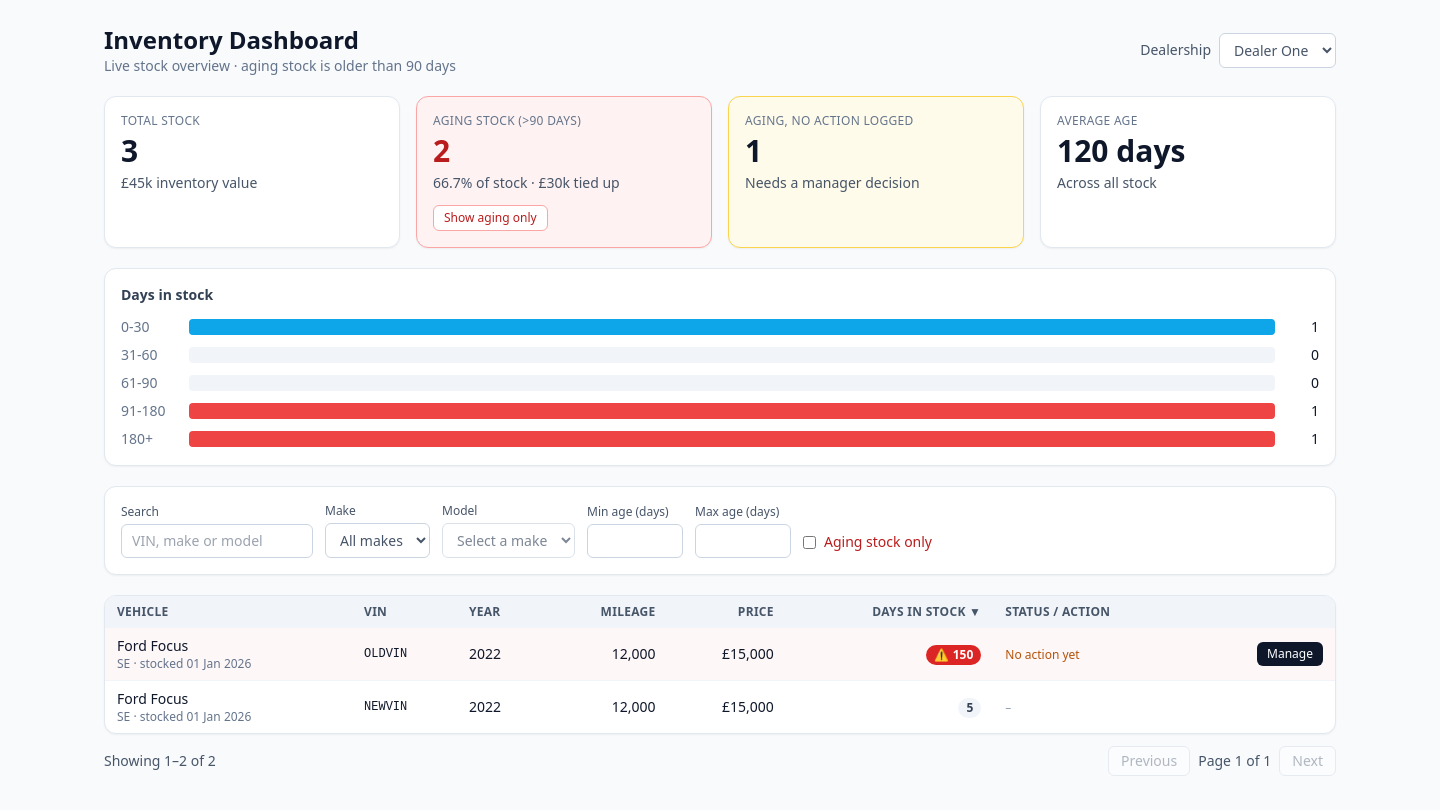
Test: App › re-queries with aging=true when "aging only" is ticked
The width and height of the screenshot is (1440, 810).
Expected: the text "NEWVIN" is shown, [352,680,457,733]
Click the checkbox labelled "Aging stock only". click: (810, 542)
box: [803,536,816,548]
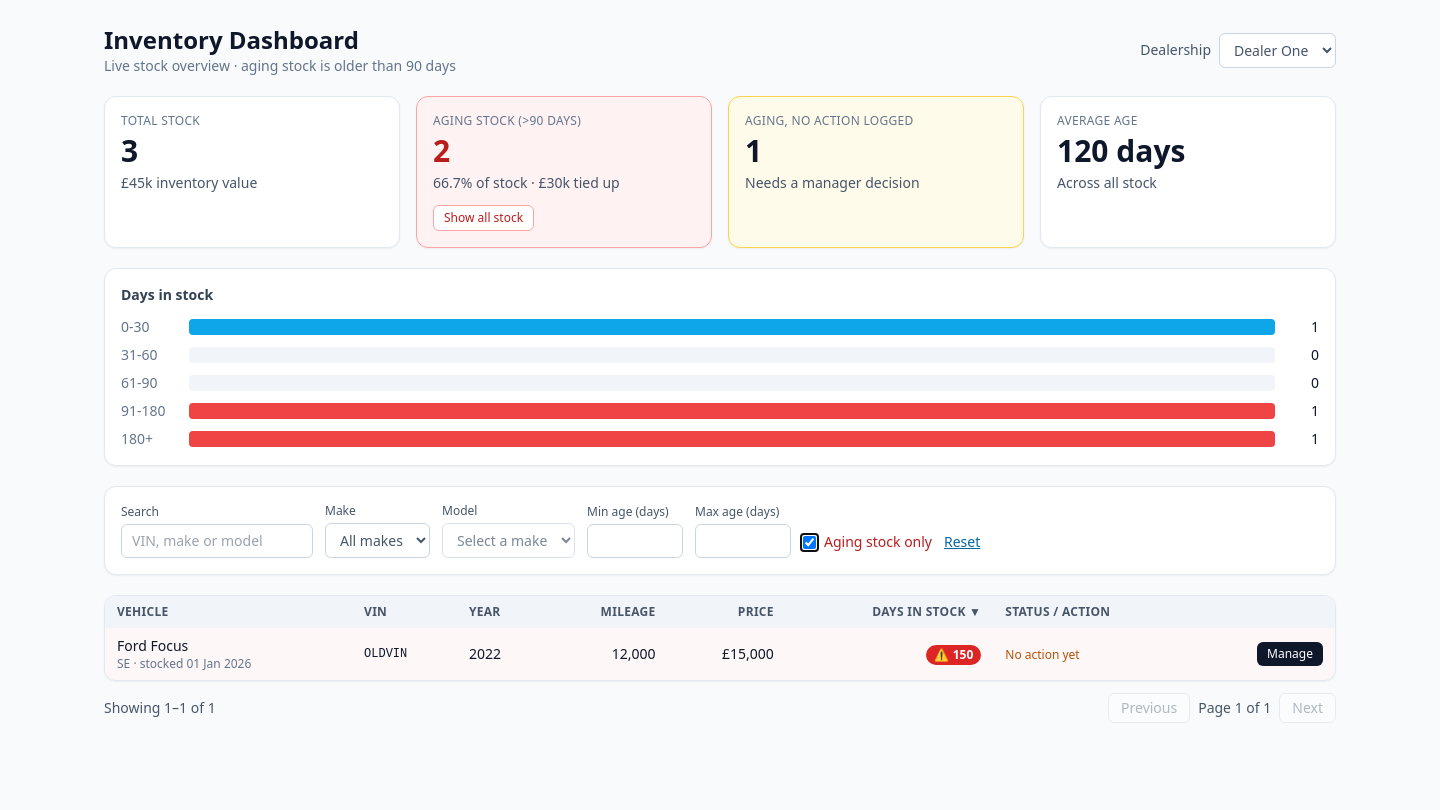
Expected: the text "OLDVIN" is shown, [352,628,457,680]
Expected: the text "NEWVIN" is gone
